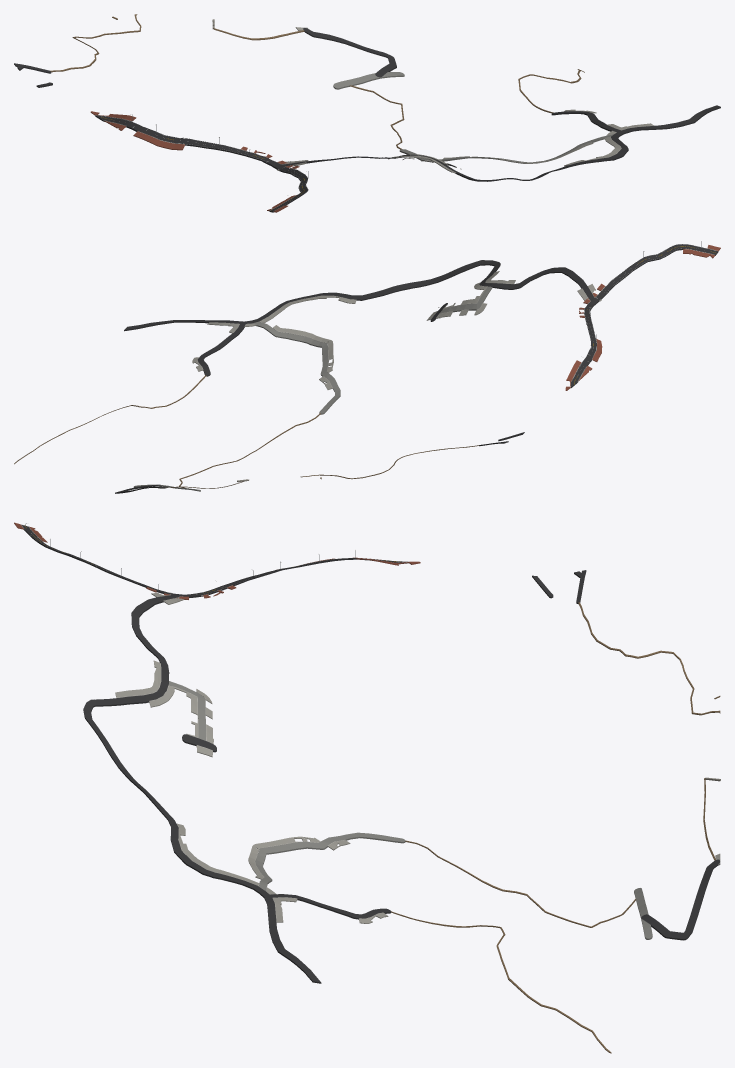
3 views of the same model, one above another, from view 1: azimuth 30°, elevation 25°; view 2: azimuth 150°, elevation 25°; view 3: azimuth 270°, elevation 25° (orthographic). The views are drawn at different scales.
Bounding box in the file's own units: 588 × 204 × 567.
